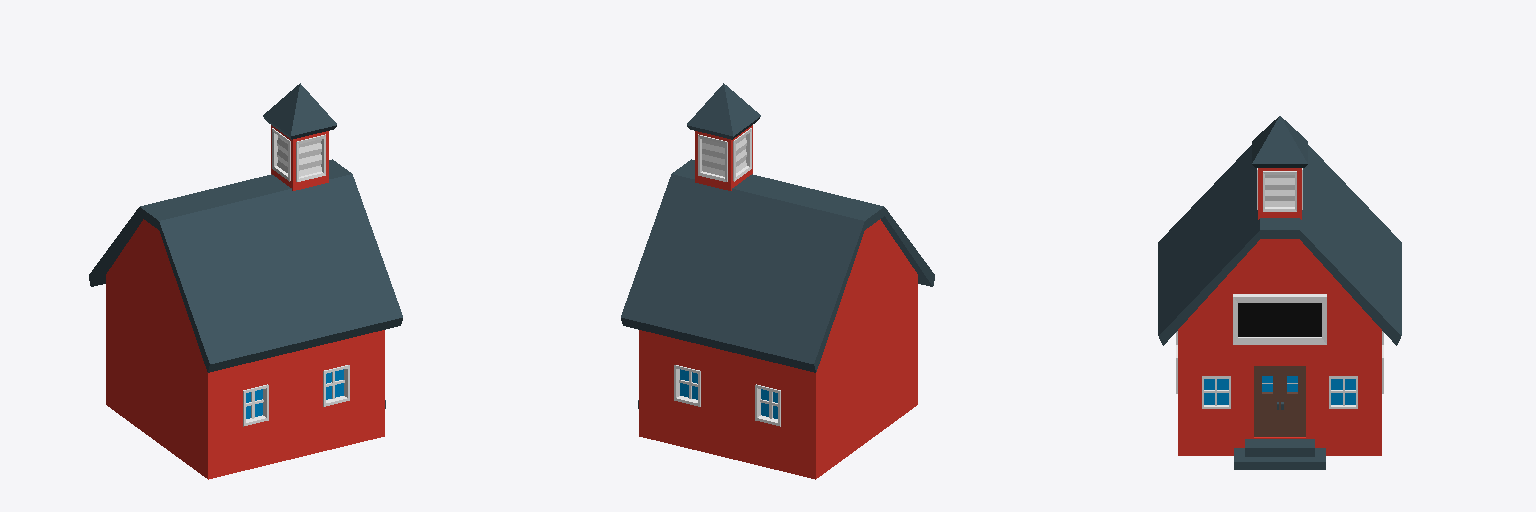
The model's file is Schoolhouse_01.obj.
The picture shows the model from 3 angles: view 1: azimuth 30°, elevation 25°; view 2: azimuth 150°, elevation 25°; view 3: azimuth 270°, elevation 25°; orthographic projection.
Visible parts, largest first — view 1: SchoolHouse_Cube.030; view 2: SchoolHouse_Cube.030; view 3: SchoolHouse_Cube.030.
Part boxes in pixels (x1,y1,x2,y2): SchoolHouse_Cube.030: (89,83,402,479); SchoolHouse_Cube.030: (621,83,934,479); SchoolHouse_Cube.030: (1158,116,1401,469).
Bounding box in the file's own units: 6.93 × 10.05 × 6.83.